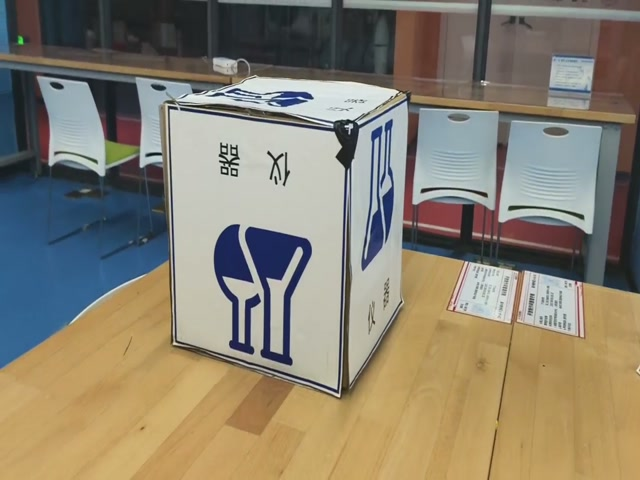Cube_ins: (163, 77, 407, 134)
